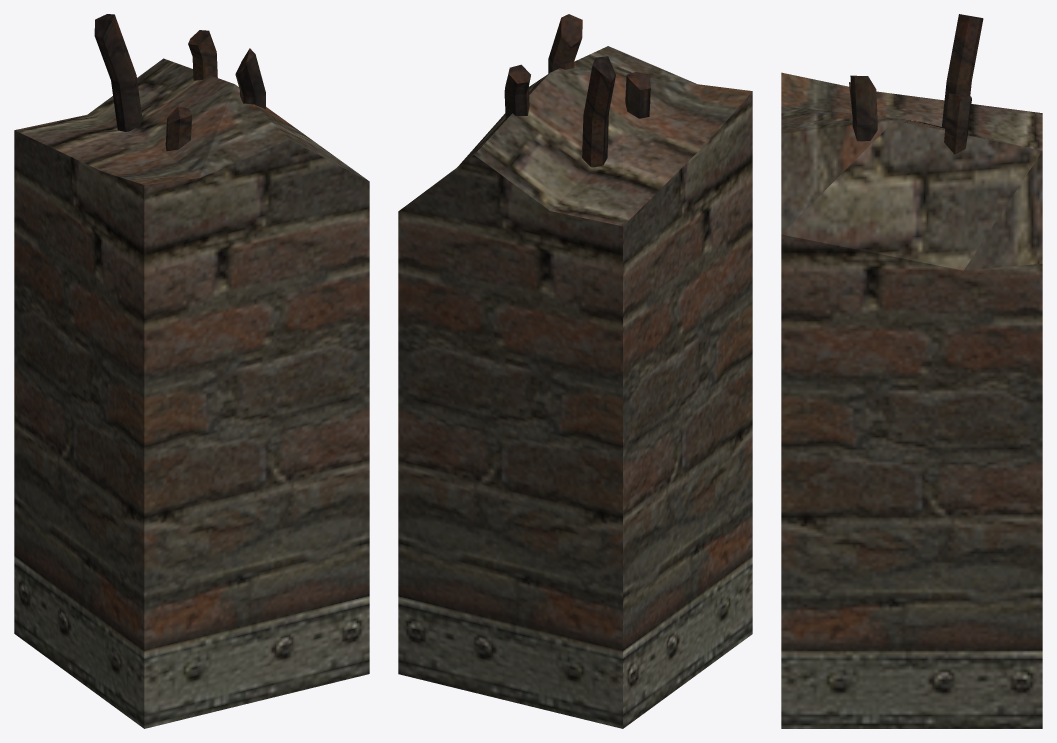
Rendered from pillar_hr_1_broken.obj.
3 renders of one model, left to right at view 1: azimuth 30°, elevation 25°; view 2: azimuth 150°, elevation 25°; view 3: azimuth 270°, elevation 25°, orthographic.
Parts seen in each view (by area): view 1: pillar_hr_1_broken; view 2: pillar_hr_1_broken; view 3: pillar_hr_1_broken.
Part boxes in pixels (x1=…): pillar_hr_1_broken: x1=14, y1=14, x2=369, y2=728; pillar_hr_1_broken: x1=398, y1=14, x2=752, y2=728; pillar_hr_1_broken: x1=781, y1=14, x2=1042, y2=728.
Bounding box in the file's own units: 0.6 × 1.6 × 0.6.
